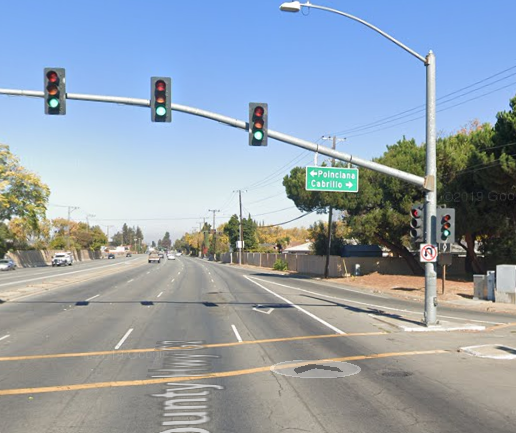green_light: (43, 69, 66, 113), (151, 78, 170, 121), (250, 103, 266, 145), (436, 210, 454, 242)
